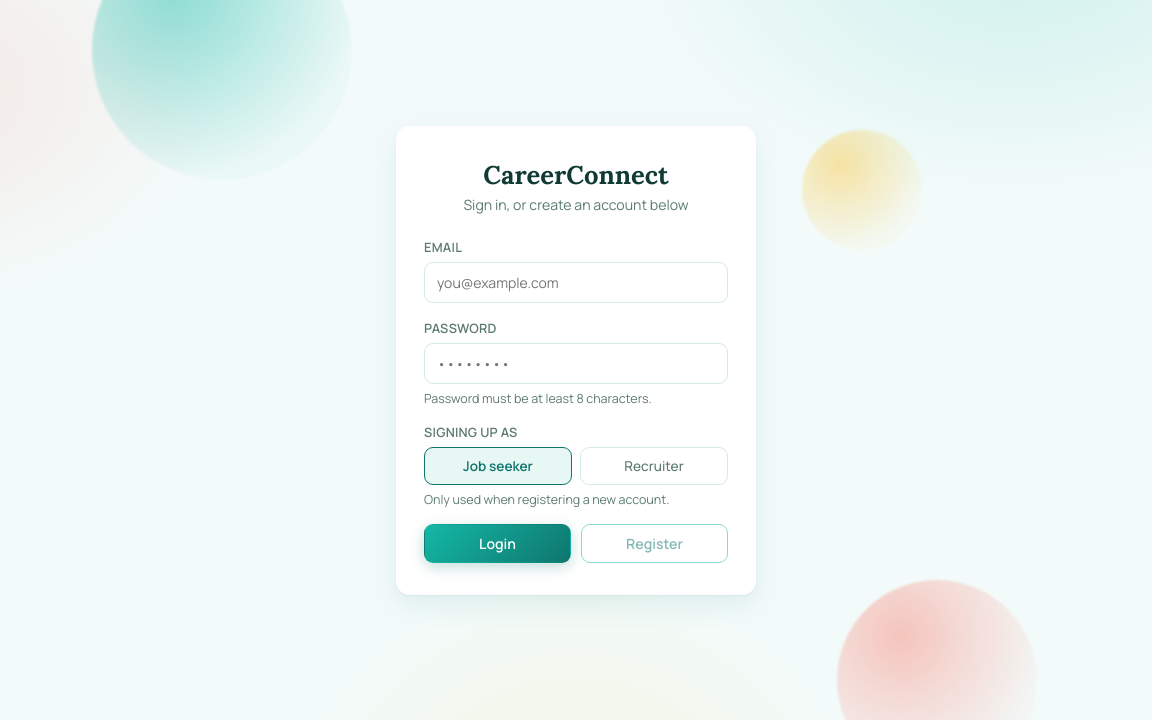
Scenario: Login › client-side validation › enables Register and signs up with the chosen role when the input is valid
Type "new@example.com" into the field with placeholder "you@example.com". click: (576,282)
box: [424,262,728,302]
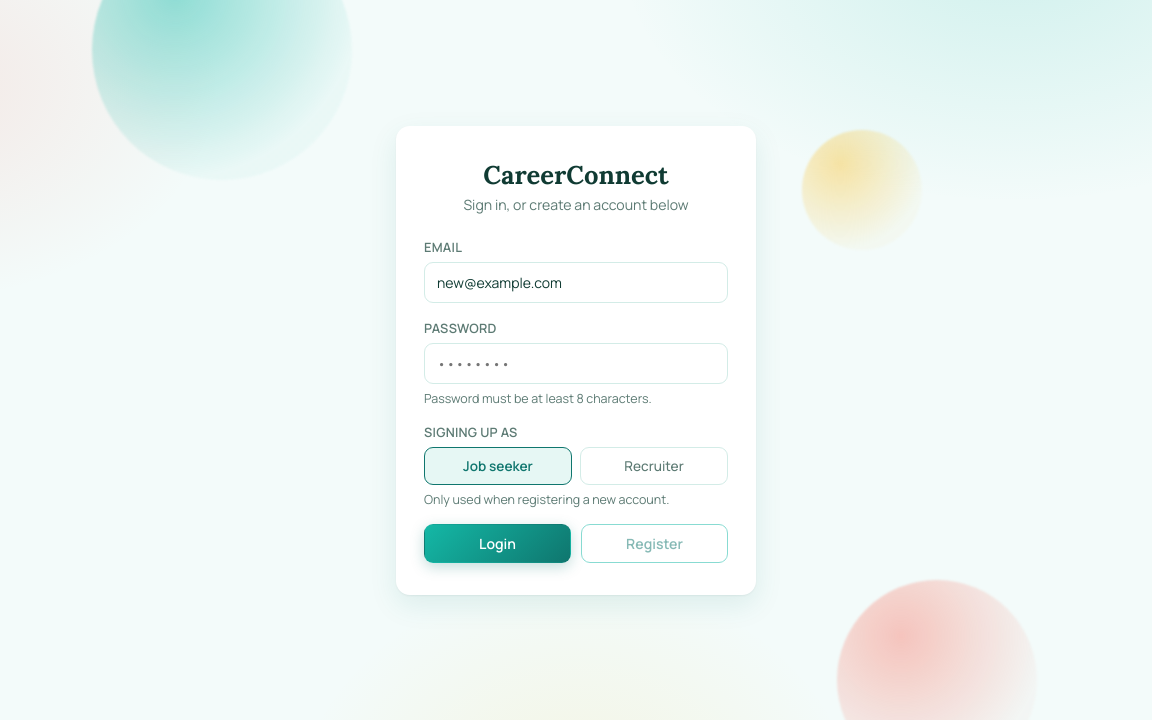
Type "Password123!" into the password field with placeholder "••••••••". click: (576,363)
box: [424,342,728,384]
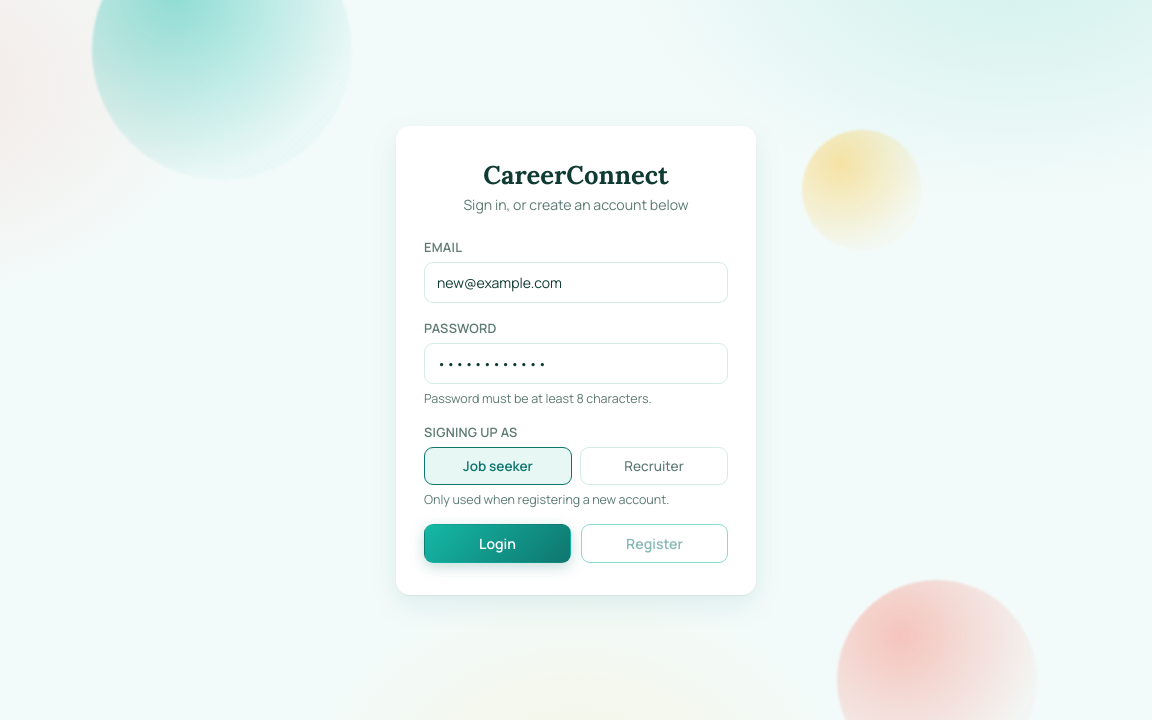
Click the button "Recruiter". click: (654,466)
box: [580,446,728,484]
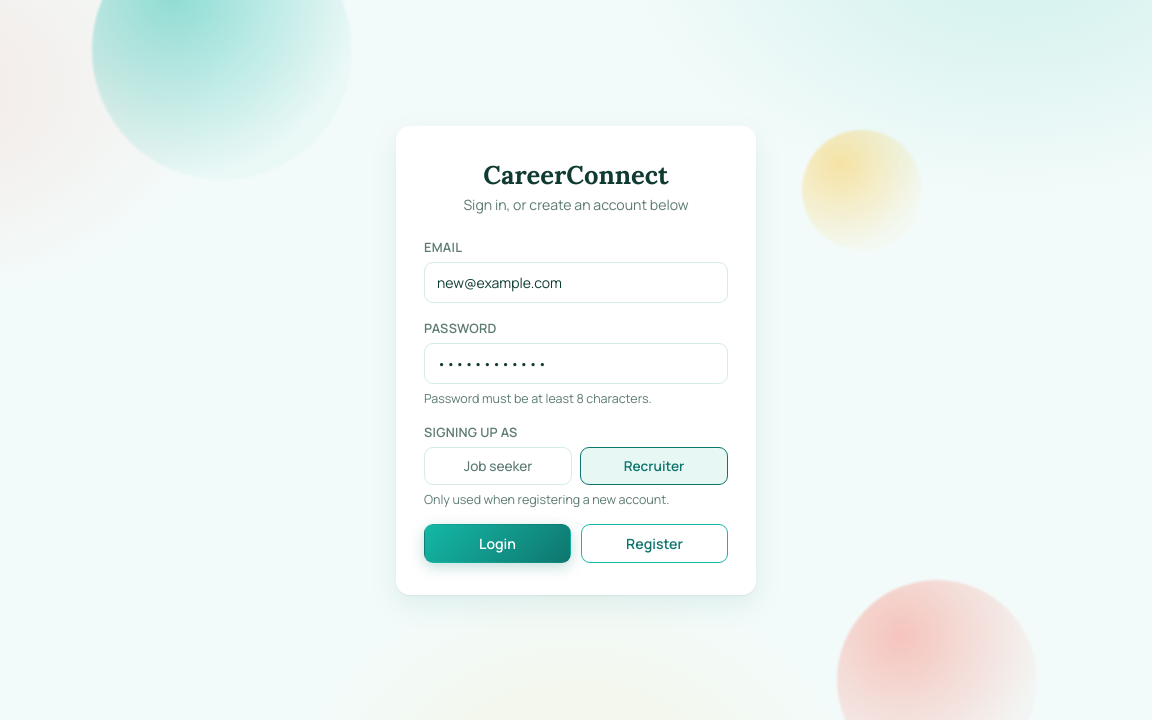
Now the button "Register" is enabled, box [581,524,728,562]
